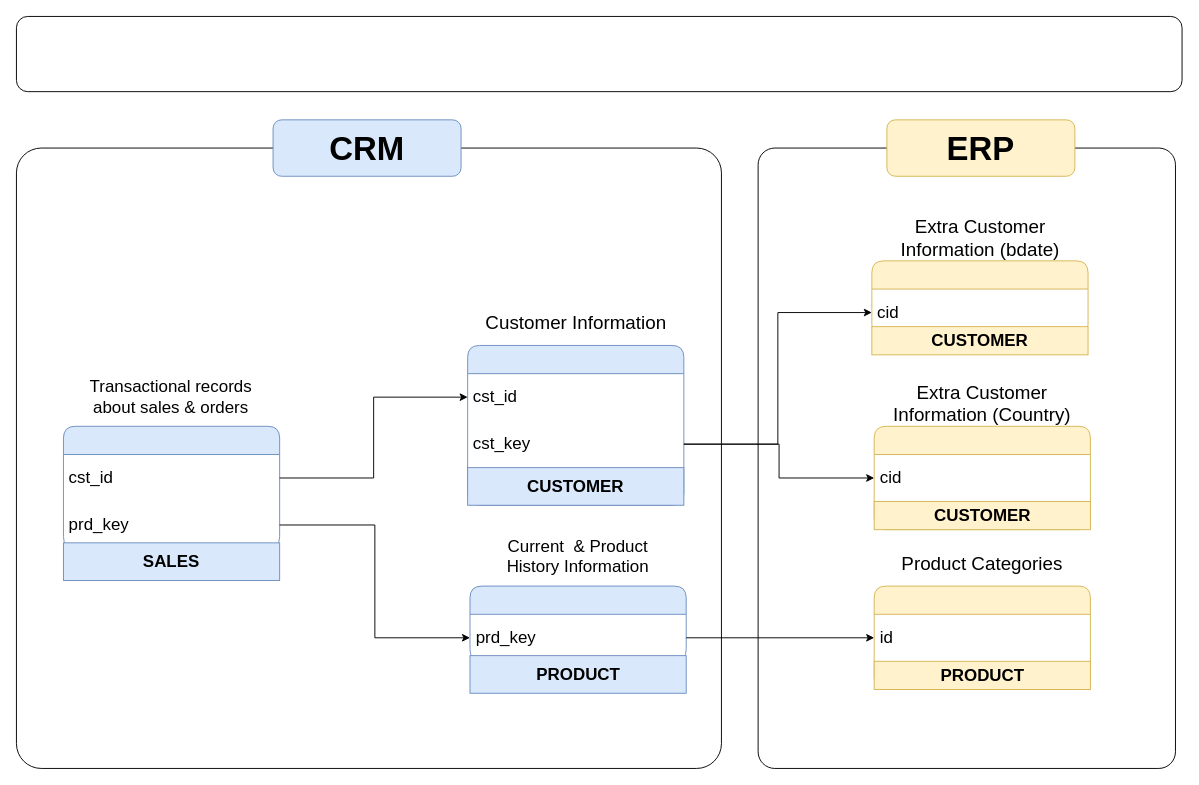
Some shapes in this 1199 by 785 pixel diagram are drawn without their labels. The box of each missing label's shape, as (x1, y1, x2, y2) in pixels:
crm_cust_info: (467, 345, 684, 505)
crm_prd_info: (469, 585, 686, 661)
crm_sales_details: (63, 425, 280, 548)
DATA INTEGRATION: (16, 16, 1182, 92)
erp_cust_az12: (871, 260, 1088, 336)
erp_loc_a101: (873, 425, 1090, 530)
erp_px_cat_g1v2: (873, 585, 1090, 689)
